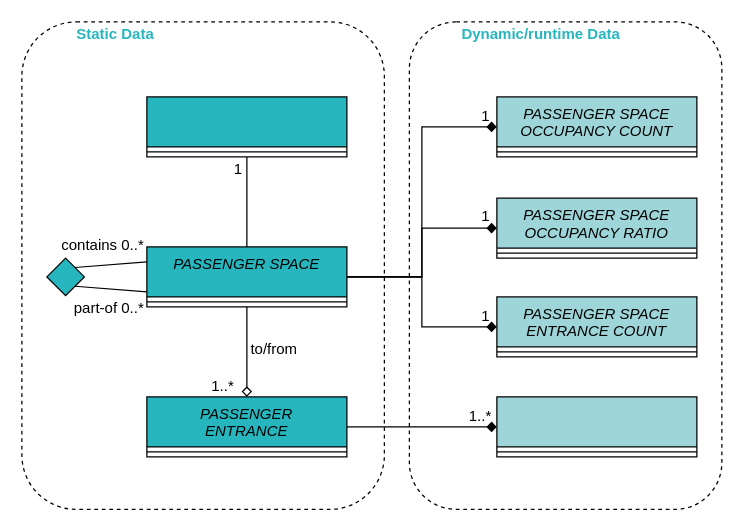
The diagram is 744 pixels wide and 531 high, and some of its shapes have lost their labels. Each missing label, with the centre of its shape:
"PASSENGER ENTRANCE COUNT" belongs at point (596, 426).
"PASSENGER SPACE CAPACITY" belongs at point (246, 126).
